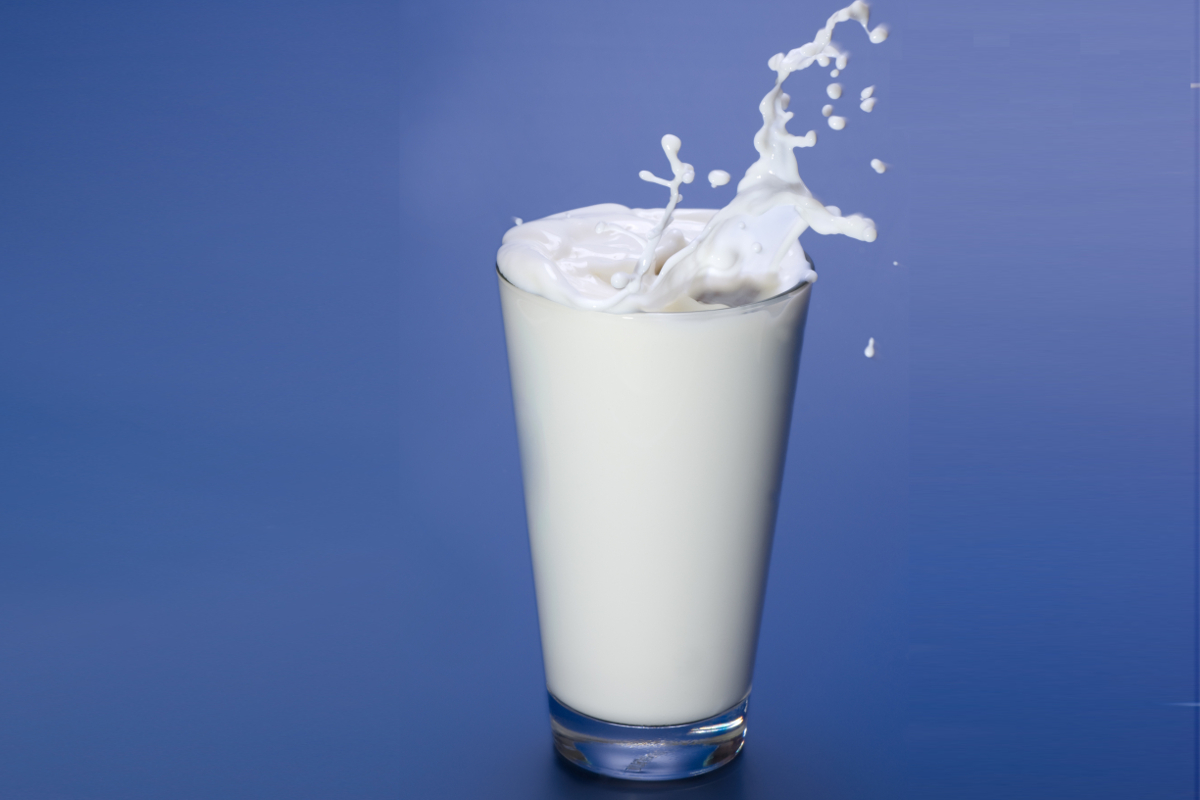glass of milk: (472, 155, 833, 784)
